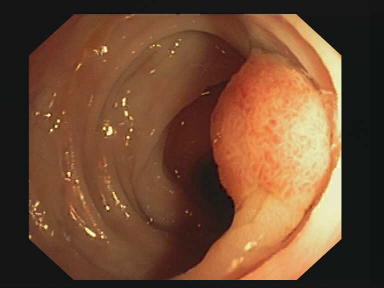polyp: (189, 24, 349, 273)
